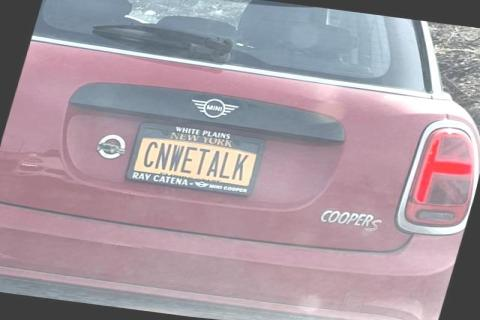LicensePlate: (122, 120, 266, 195)
